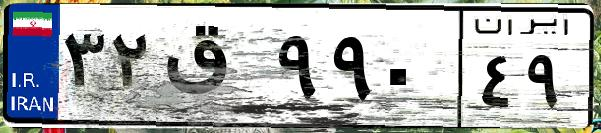0: (385, 28, 445, 110)
2: (110, 28, 158, 98)
3: (57, 26, 110, 100)
4: (475, 38, 525, 113)
9: (270, 28, 330, 110), (330, 28, 385, 110), (525, 38, 570, 115)
ق: (158, 20, 270, 120)
